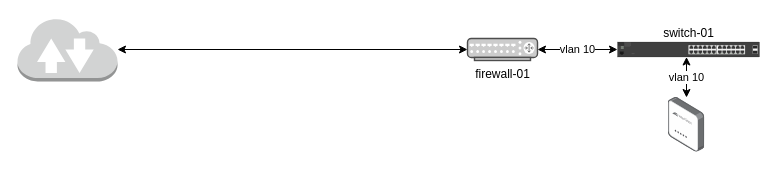
This 777x191 diagram has some shape labels left out. Each missing label, with the box of its shape:
Swisscom: (16, 16, 118, 82)
wifi-01: (668, 97, 704, 152)
